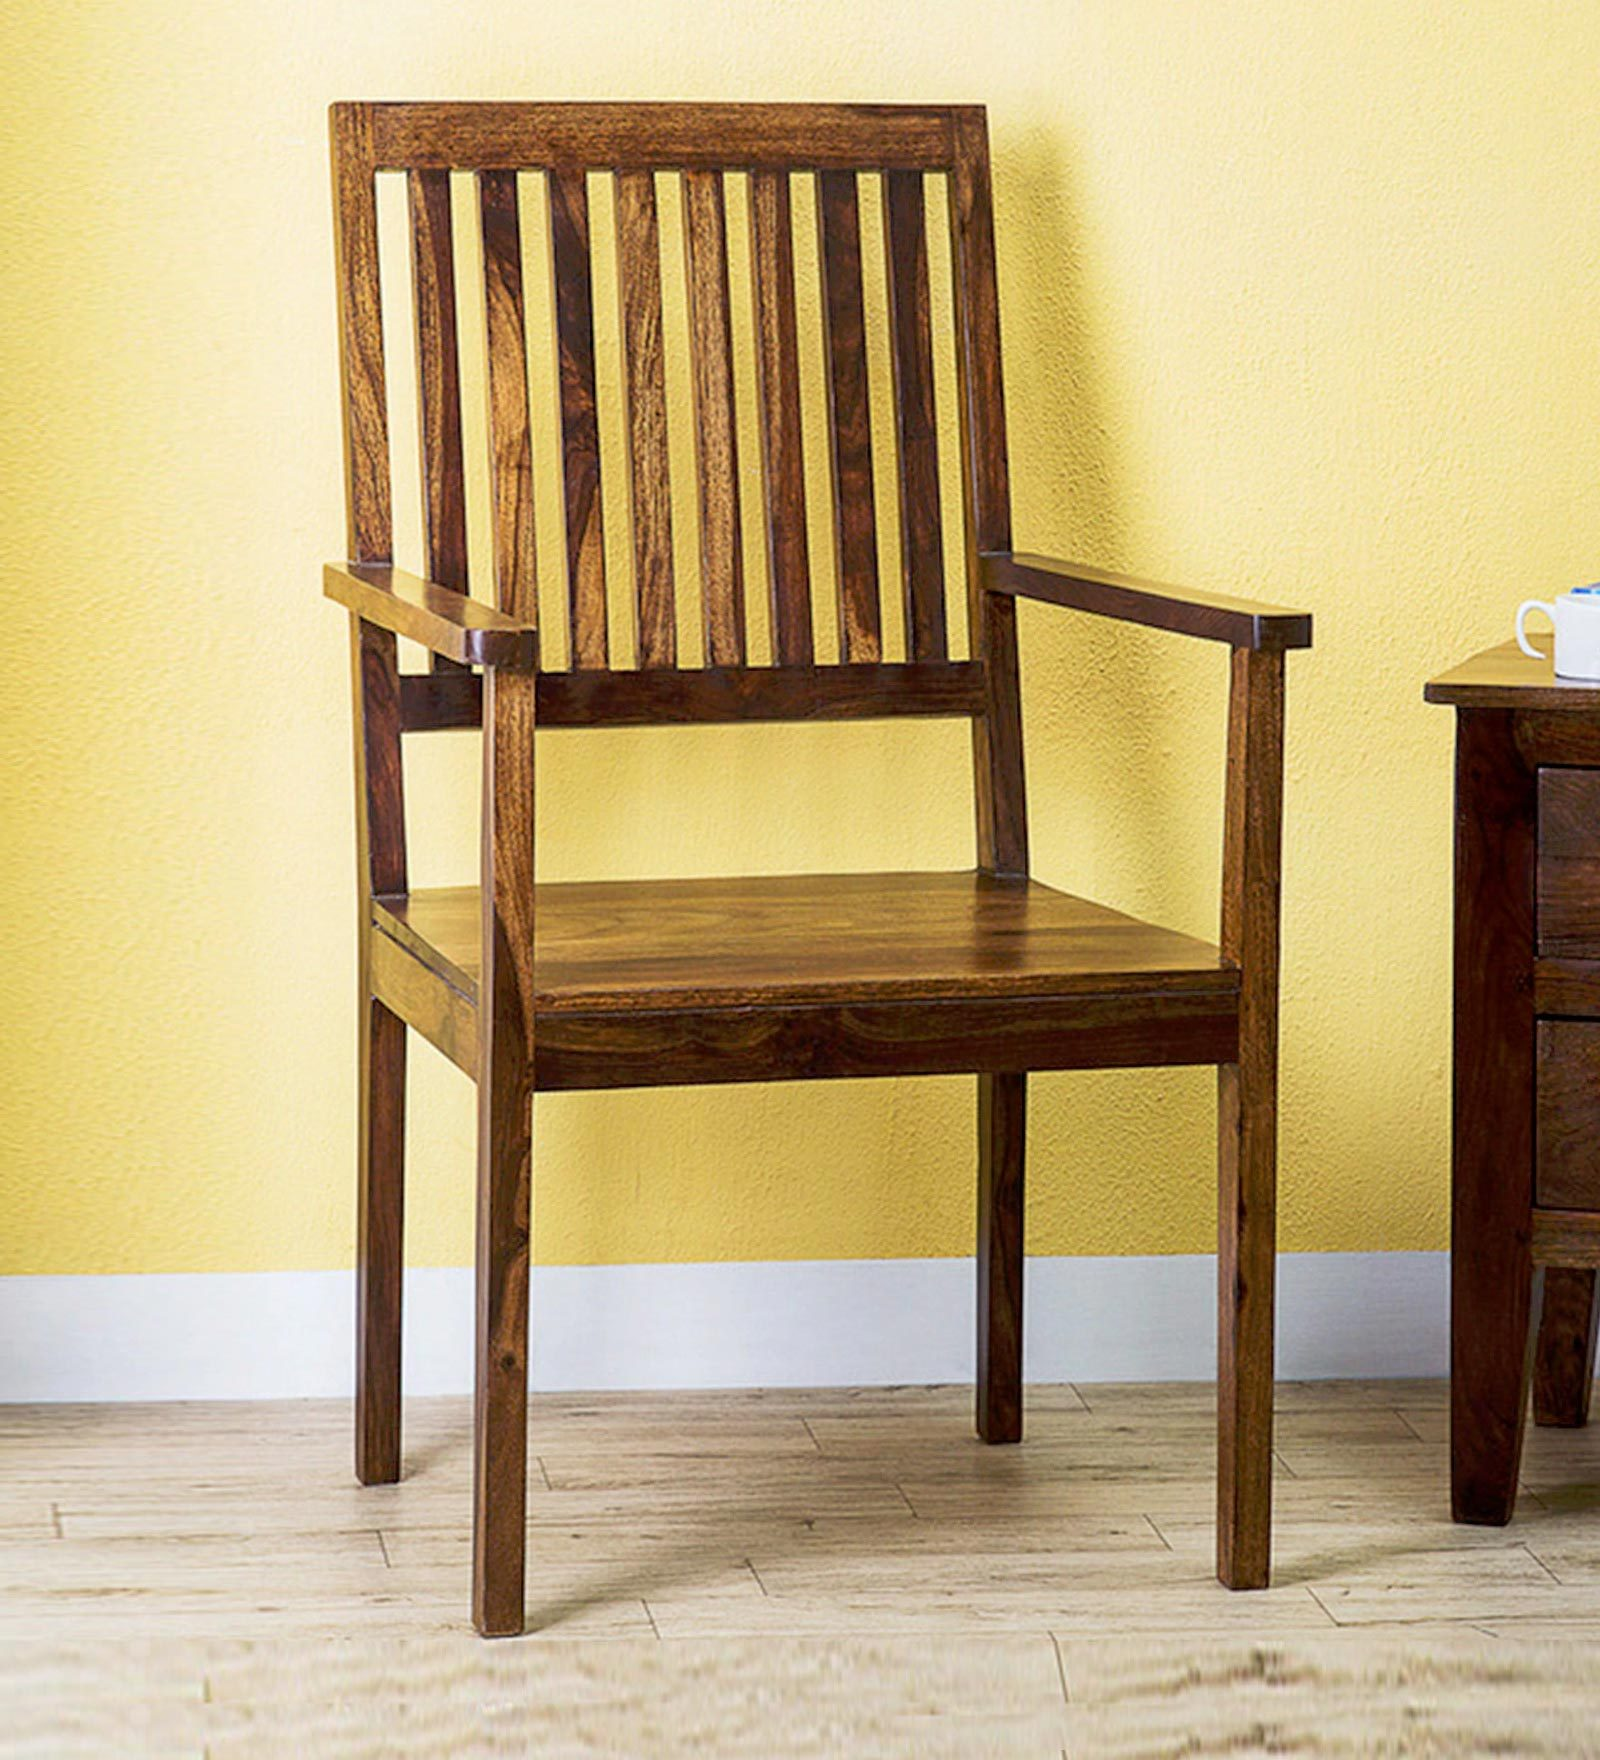Amarillo Arm Chair in Provincial Teak Finish by Woodsworth: (271, 63, 1310, 1639)
